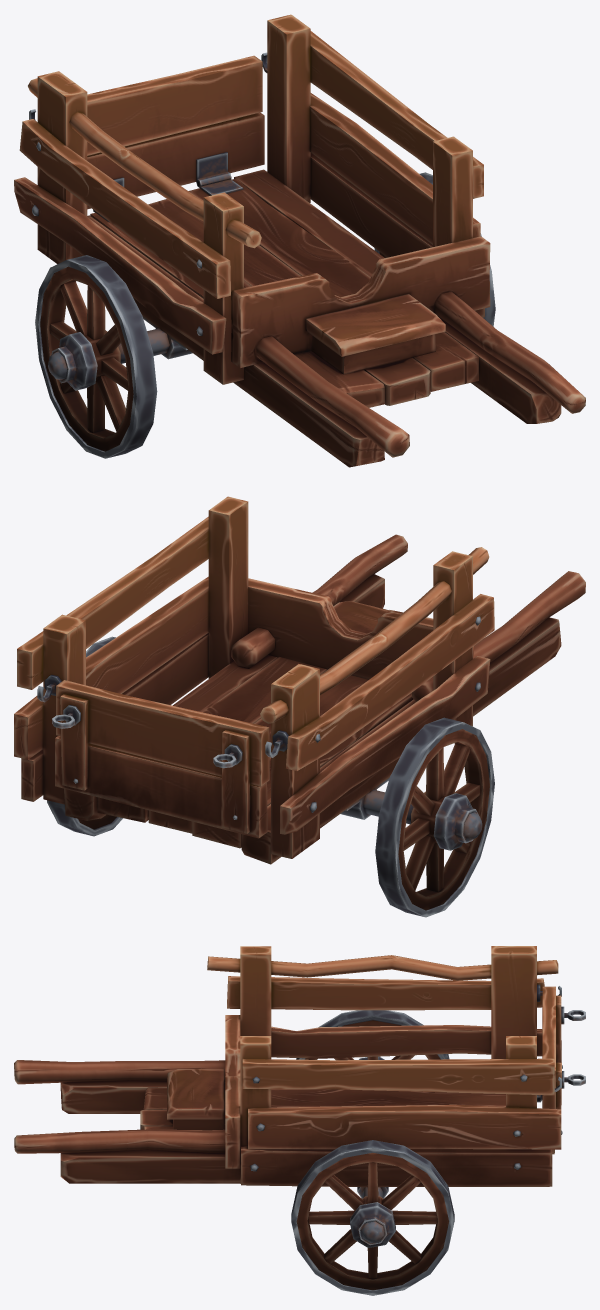
Rendered from telega.fbx.
3 views of the same model, one above another, from view 1: azimuth 30°, elevation 25°; view 2: azimuth 150°, elevation 25°; view 3: azimuth 270°, elevation 25° (orthographic). The views are drawn at different scales.
Visible parts, largest first — view 1: telega; view 2: telega; view 3: telega.
Boxes of the visible parts, x1,y1,x2,y2 form: telega: [14, 14, 585, 467]; telega: [14, 496, 585, 917]; telega: [14, 946, 585, 1295].
Bounding box in the file's own units: 93.76 × 60.05 × 135.
